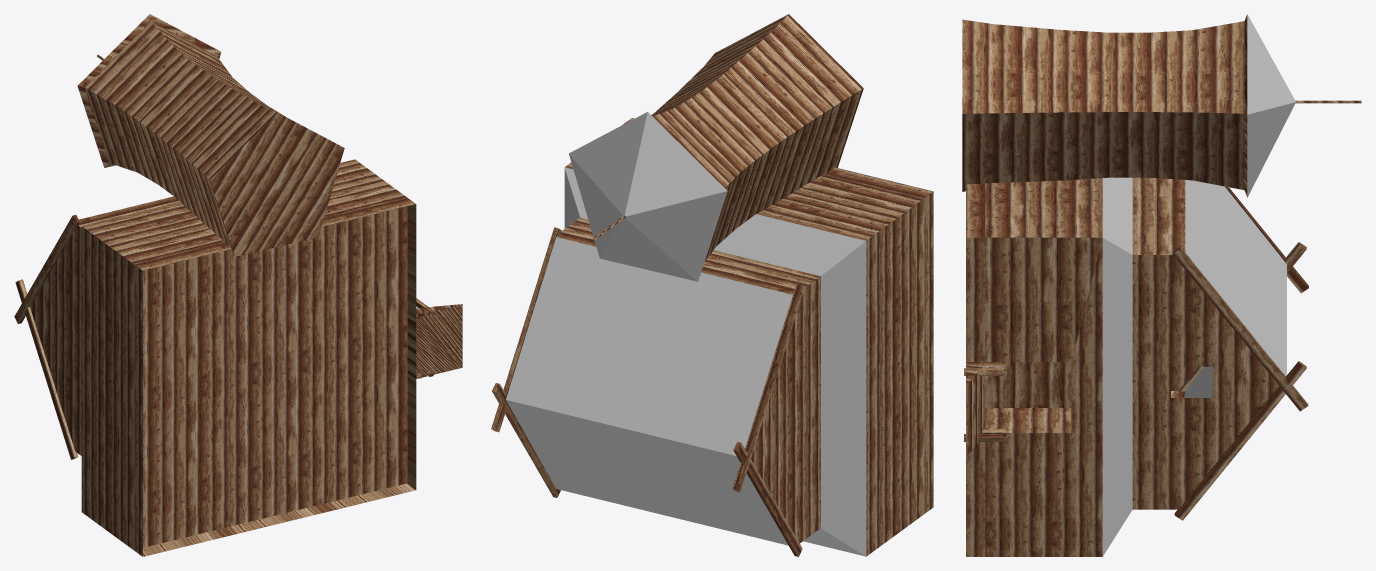
The model's file is castle.fbx.
3 views of the same model, side by side, from view 1: azimuth 30°, elevation 25°; view 2: azimuth 150°, elevation 25°; view 3: azimuth 270°, elevation 25° (orthographic). The views are drawn at different scales.
Visible parts, largest first — view 1: Plane; view 2: Plane; view 3: Plane.
Boxes of the visible parts, x1,y1,x2,y2 form: Plane: [14, 14, 462, 556]; Plane: [491, 14, 933, 556]; Plane: [962, 14, 1361, 556].
Size of the model in its own units: 14.48 by 18.09 by 14.04.
